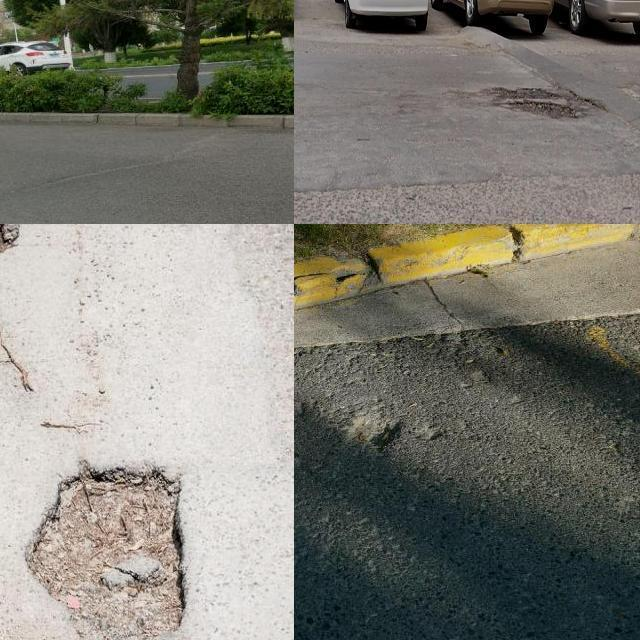Pothole: (26, 462, 186, 640), (493, 85, 594, 123), (352, 408, 404, 452)
